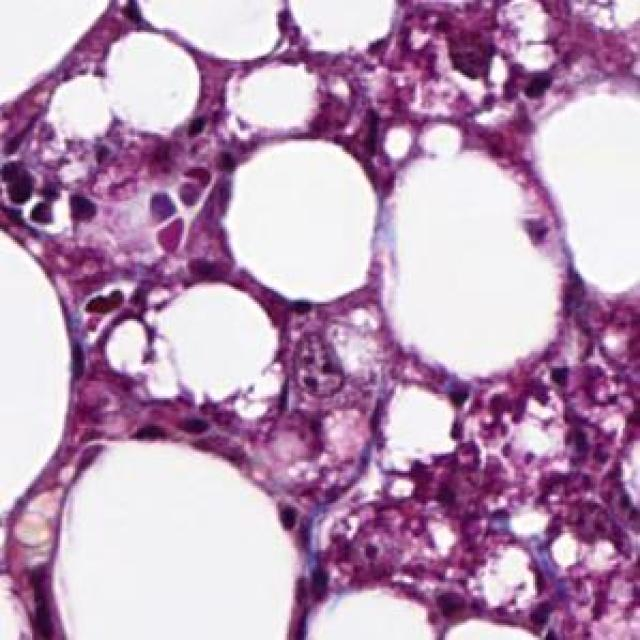inflammation: (441, 36, 554, 112), (0, 154, 98, 239), (443, 372, 535, 460), (145, 165, 227, 261)
